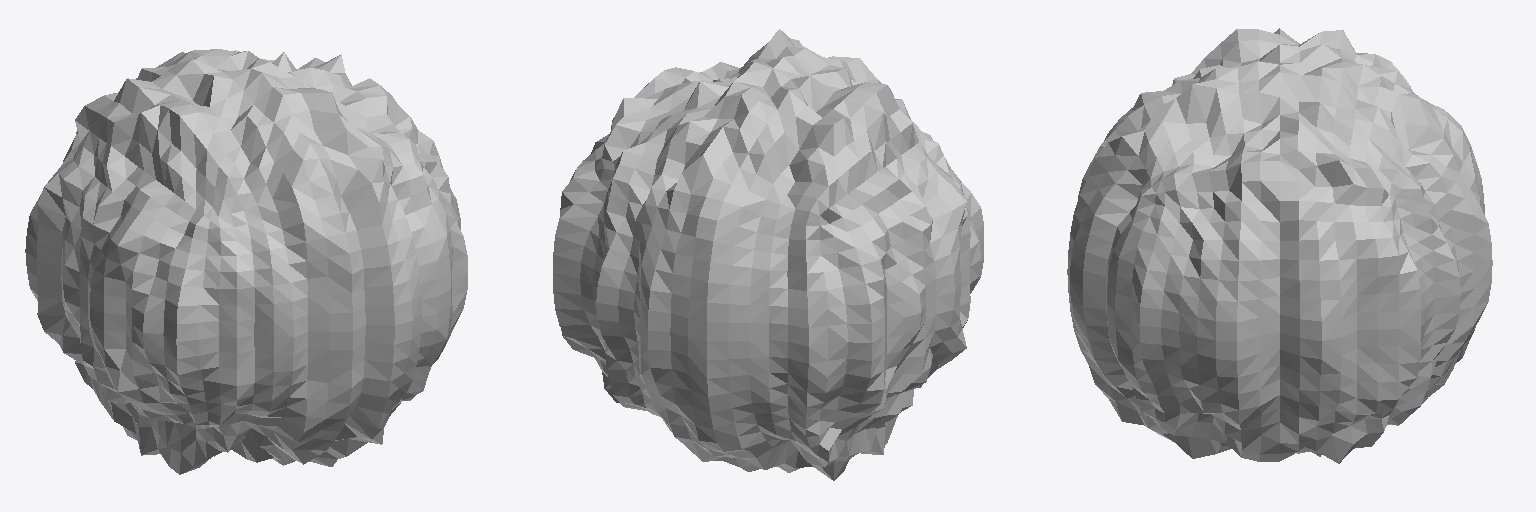
File: asteroid178.obj
The picture shows the model from 3 angles: view 1: azimuth 30°, elevation 25°; view 2: azimuth 150°, elevation 25°; view 3: azimuth 270°, elevation 25°; orthographic projection.
Parts seen in each view (by area): view 1: Cube_Cube.002; view 2: Cube_Cube.002; view 3: Cube_Cube.002.
Part boxes in pixels (x1,y1,x2,y2): Cube_Cube.002: (25,49,467,474); Cube_Cube.002: (553,29,983,480); Cube_Cube.002: (1067,28,1492,463).
Size of the model in its own units: 1.7 by 1.77 by 1.77.